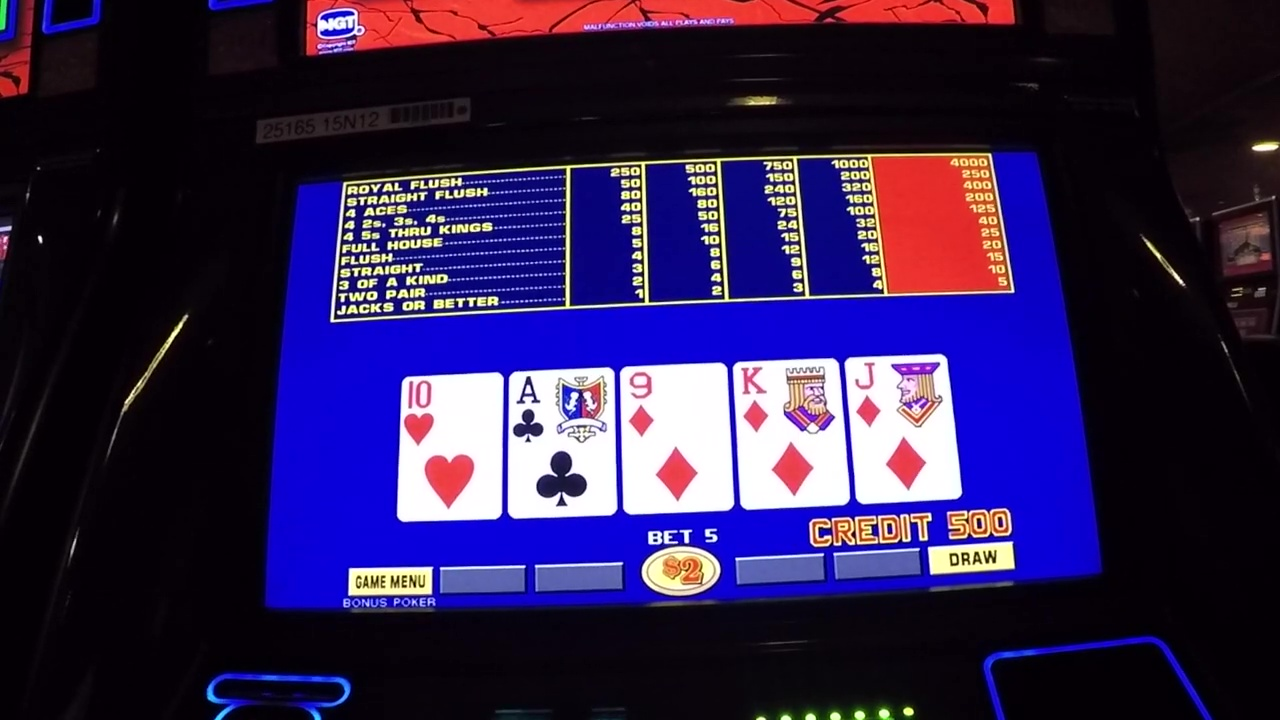CA: (510, 369, 609, 448)
D9: (624, 368, 727, 442)
DJ: (854, 360, 947, 430)
DK: (739, 361, 840, 438)
HT: (406, 379, 500, 449)
